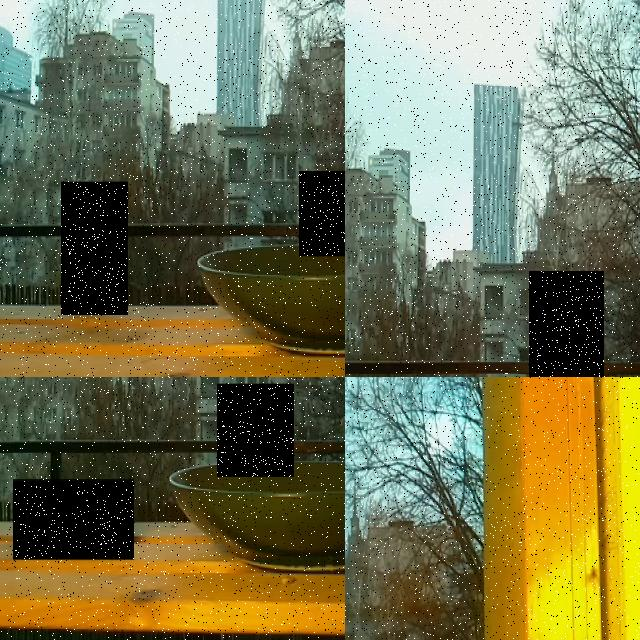Bogatka: (61, 182, 128, 315), (217, 384, 294, 477)
Modraszka: (13, 480, 134, 560)
Wrobel: (529, 271, 604, 377), (299, 170, 345, 256)
